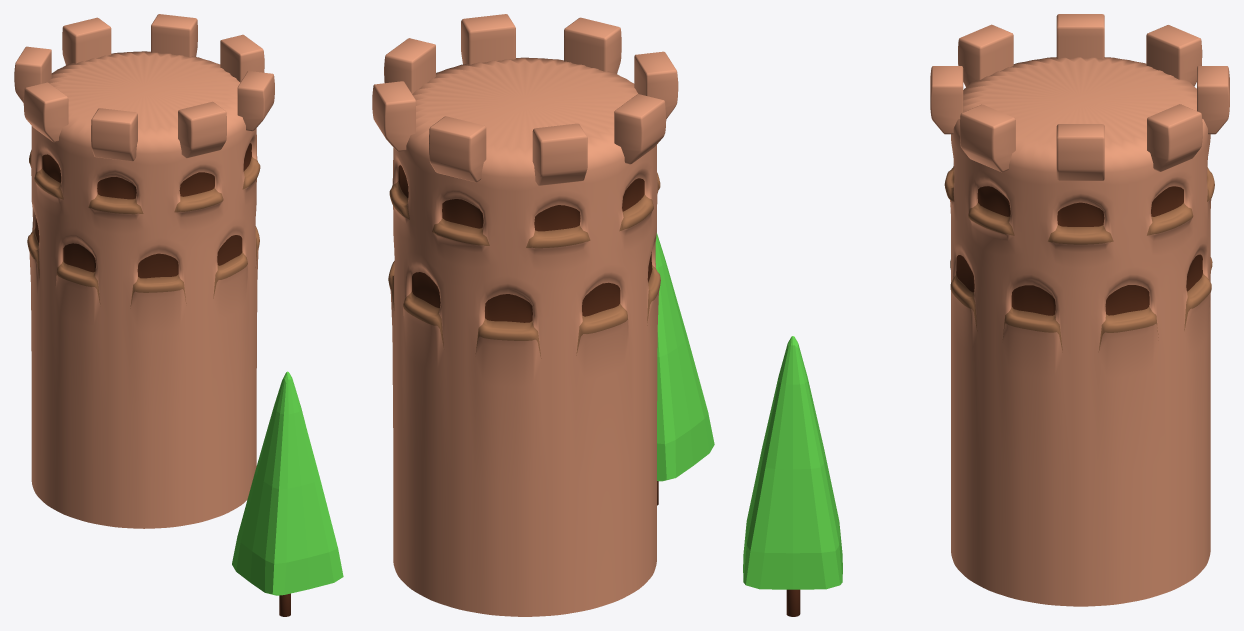
The model's file is castleTitleScreenSUBDIVIDE.fbx.
The picture shows the model from 3 angles, left to right: view 1: azimuth 30°, elevation 25°; view 2: azimuth 150°, elevation 25°; view 3: azimuth 270°, elevation 25°; orthographic projection. The views are drawn at different scales.
Parts seen in each view (by area): view 1: Cylinder, Cube.008, Cube.003, Cube.007, Cube.006, Cube.004, Cube.002, Cube.001, Cube, Cube.005; view 2: Cylinder, Cube.008, Cube.004, Cube.005, Cube.006, Cube.003, Cube.001, Cube.002, Cube, Cube.007; view 3: Cylinder, Cube.008, Cube.001, Cube.002, Cube, Cube.007, Cube.005, Cube.006, Cube.003, Cube.004.
Boxes of the visible parts, x1=… form: Cylinder: x1=27, y1=51, x2=260, y2=528; Cube.008: x1=232, y1=371, x2=343, y2=595; Cube.003: x1=178, y1=101, x2=226, y2=158; Cube.007: x1=91, y1=108, x2=137, y2=161; Cube.006: x1=23, y1=82, x2=68, y2=142; Cube.004: x1=62, y1=17, x2=111, y2=64; Cube.002: x1=151, y1=14, x2=197, y2=56; Cube.001: x1=237, y1=71, x2=274, y2=131; Cube: x1=220, y1=34, x2=264, y2=82; Cube.005: x1=14, y1=46, x2=51, y2=102; Cylinder: x1=388, y1=57, x2=660, y2=616; Cube.008: x1=655, y1=233, x2=714, y2=481; Cube.004: x1=429, y1=116, x2=486, y2=182; Cube.005: x1=532, y1=123, x2=587, y2=185; Cube.006: x1=614, y1=94, x2=666, y2=164; Cube.003: x1=564, y1=17, x2=621, y2=73; Cube.001: x1=461, y1=14, x2=515, y2=64; Cube.002: x1=372, y1=81, x2=415, y2=151; Cube: x1=384, y1=38, x2=435, y2=93; Cube.007: x1=634, y1=51, x2=678, y2=118; Cylinder: x1=944, y1=57, x2=1214, y2=606; Cube.008: x1=743, y1=336, x2=842, y2=589; Cube.001: x1=959, y1=104, x2=1015, y2=172; Cube.002: x1=1147, y1=104, x2=1202, y2=171; Cube: x1=1056, y1=124, x2=1104, y2=180; Cube.007: x1=958, y1=24, x2=1013, y2=87; Cube.005: x1=1146, y1=25, x2=1202, y2=86; Cube.006: x1=1056, y1=14, x2=1104, y2=58; Cube.003: x1=930, y1=66, x2=963, y2=134; Cube.004: x1=1197, y1=66, x2=1229, y2=134.
Bounding box in the file's own units: 512 × 1016 × 846.
